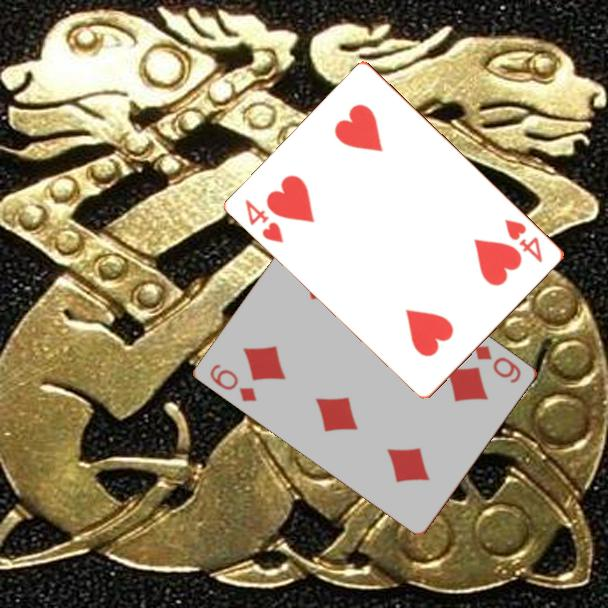d06: (207, 360, 260, 405), (471, 342, 525, 386)
h04: (242, 195, 288, 246), (501, 215, 546, 266)
